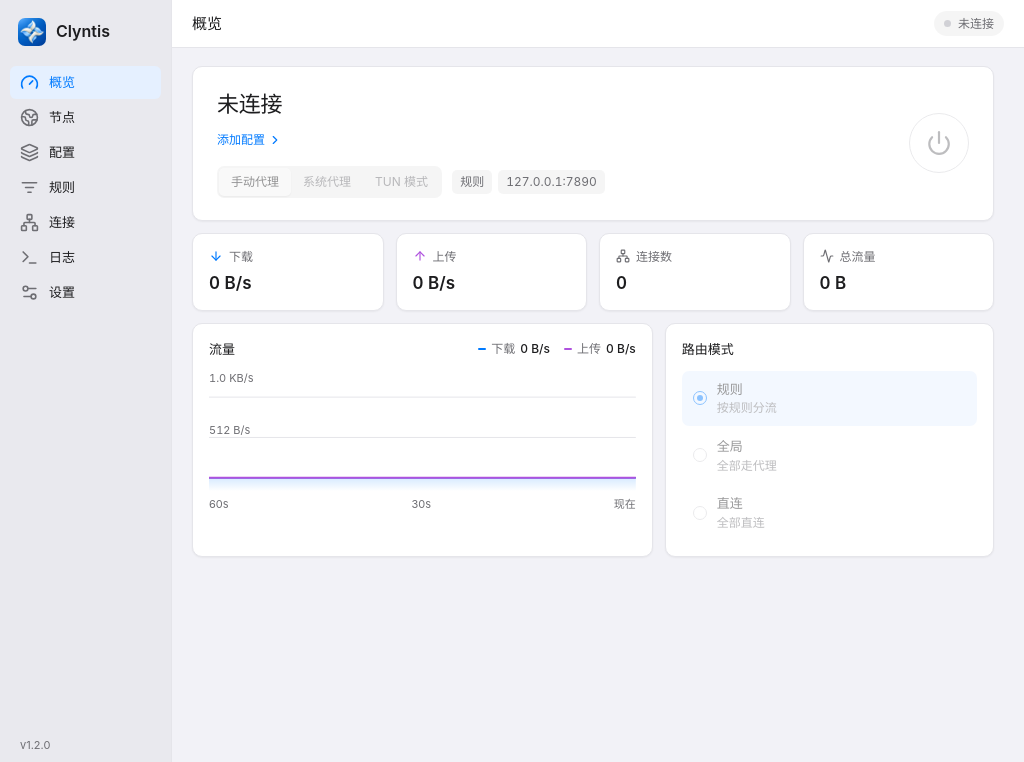
Test: desktop workflows › tests routes and DNS leaks on the rules page
The width and height of the screenshot is (1024, 762).
Click the button "规则". click: (86, 188)
box: [10, 171, 161, 204]
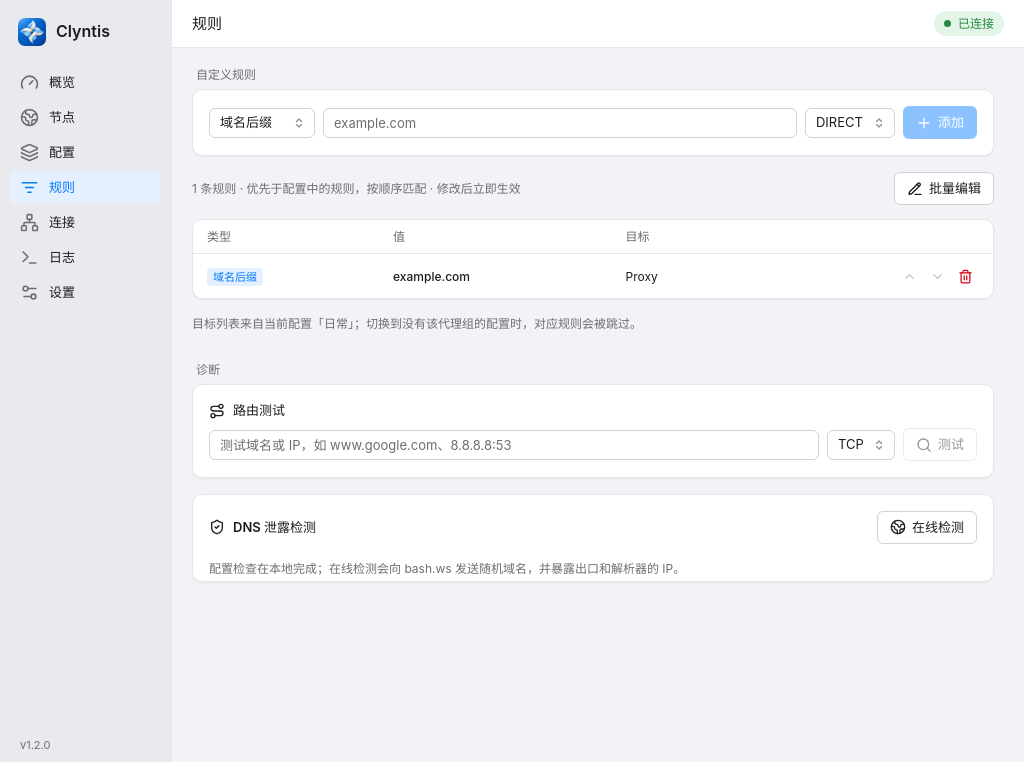
Type " www.example.com " into the field named "测试目标". click: (514, 444)
box: [209, 430, 819, 460]
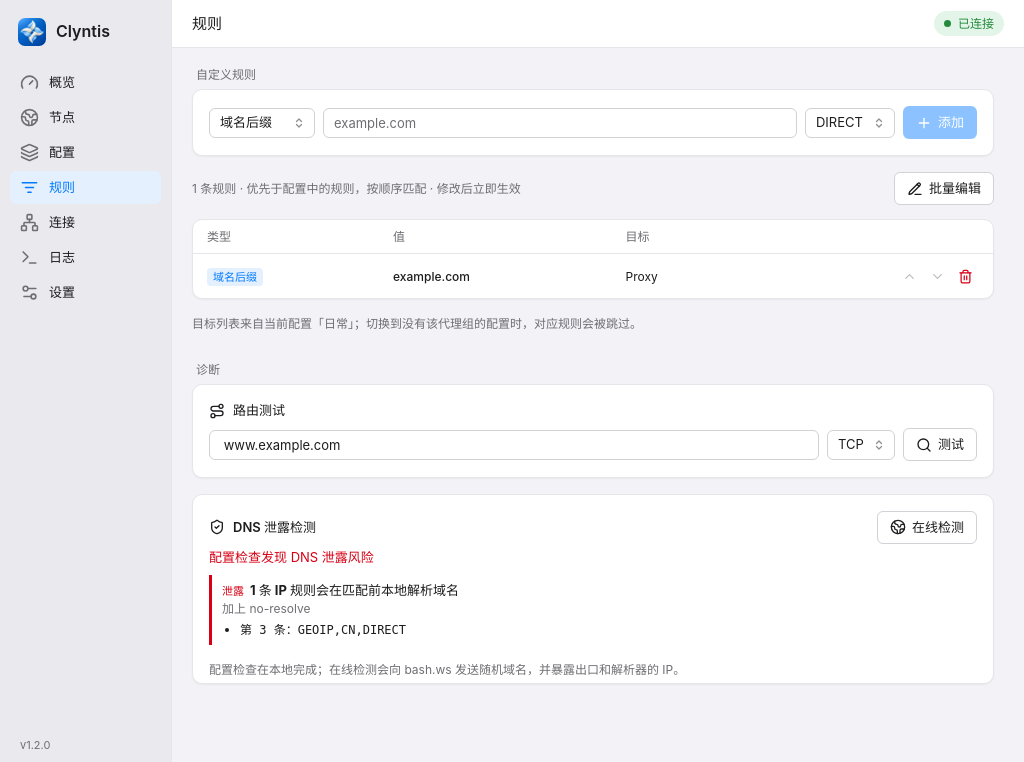
Click the button "测试". click: (940, 444)
box: [903, 428, 977, 461]
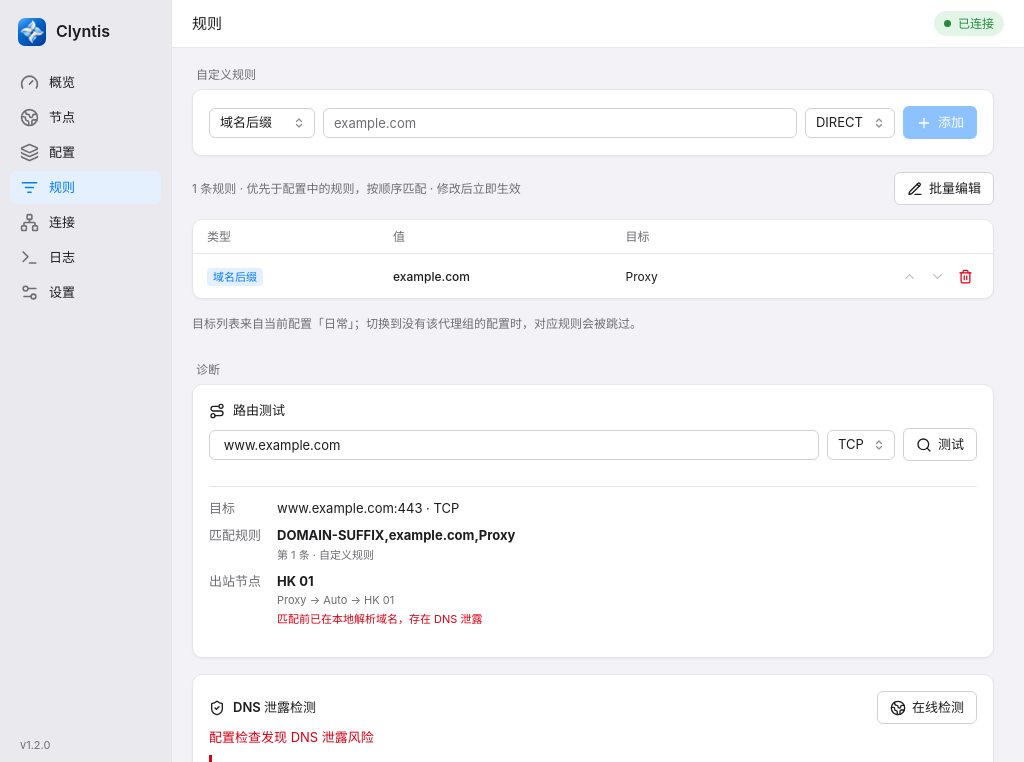
Result: the text "HK 01" is shown at [277, 573, 314, 589]
Result: the text "Proxy → Auto → HK 01" is shown at [277, 593, 394, 607]
Result: the text "第 1 条 · 自定义规则" is shown at [277, 548, 374, 562]
Click the button "在线检测". click: (927, 708)
box: [877, 691, 977, 724]
(page scrolled)
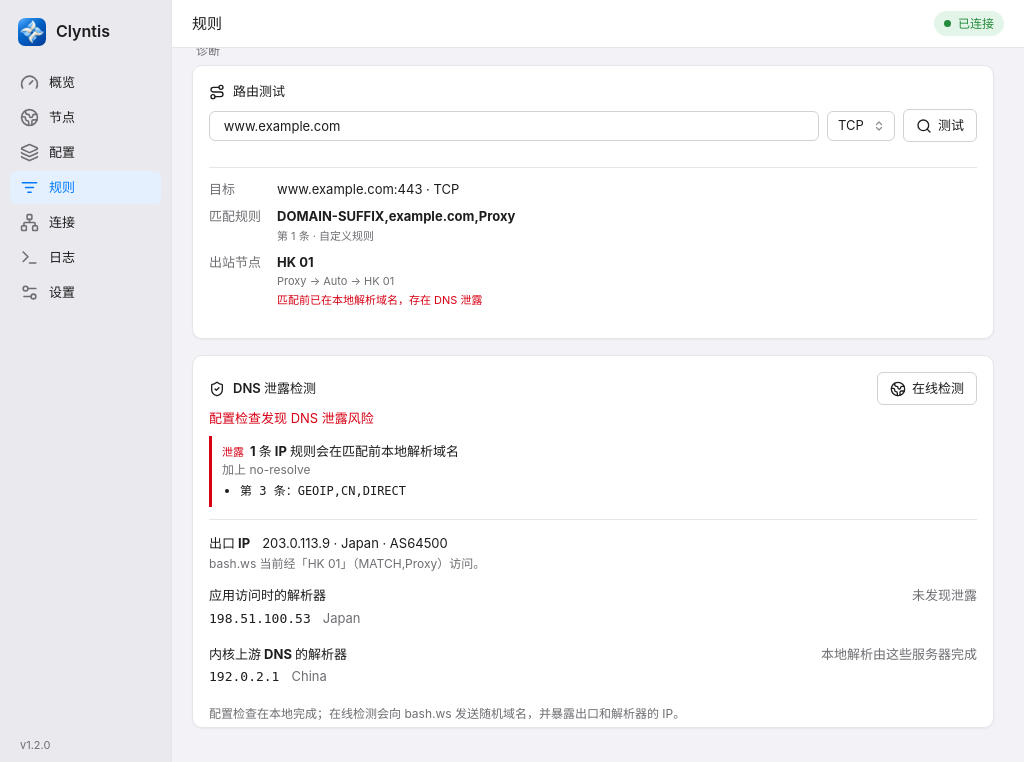
Result: the text "198.51.100.53" is shown at [209, 610, 311, 629]
Result: the text "未发现泄露" is shown at [912, 586, 977, 605]
Result: the text "本地解析由这些服务器完成" is shown at [821, 645, 977, 663]
